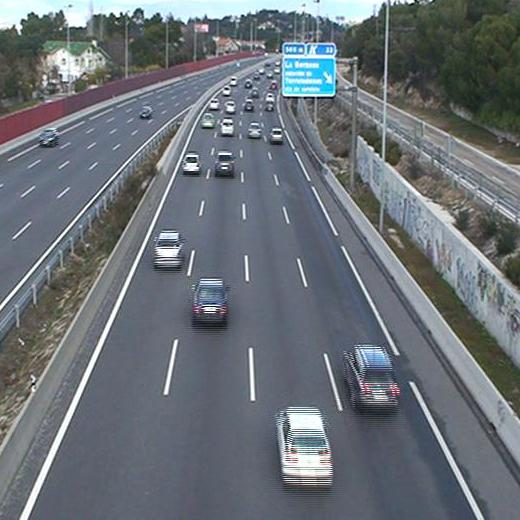car: (272, 403, 335, 487), (339, 345, 401, 406), (189, 276, 232, 322), (152, 229, 187, 267), (213, 150, 235, 173), (180, 153, 201, 172), (219, 117, 235, 133), (247, 121, 262, 137), (269, 127, 284, 142), (200, 112, 214, 127), (224, 100, 237, 112)
